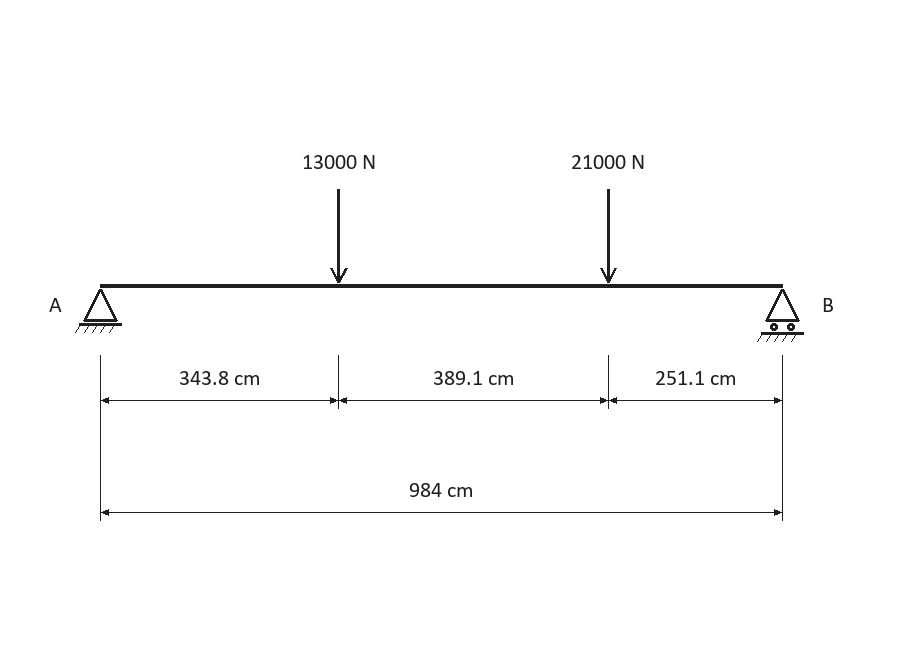pin_support: (75, 289, 122, 333)
point_load: (330, 189, 348, 283), (600, 189, 617, 283)
roller_support: (757, 289, 804, 342)
